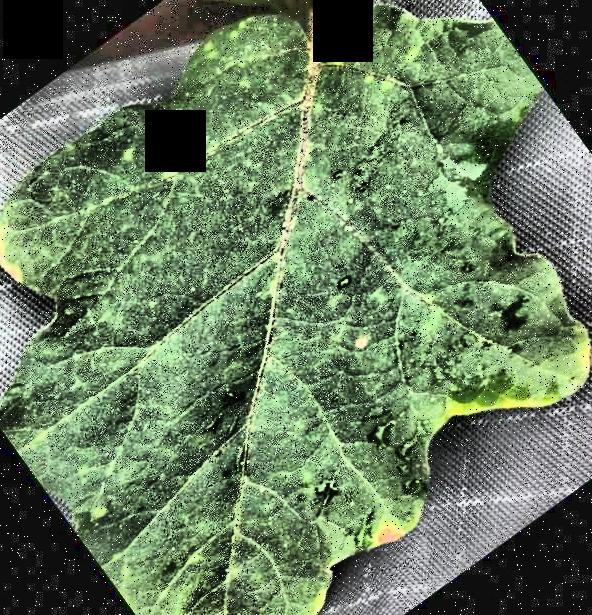Non-critical Stress: (0, 1, 592, 615)
